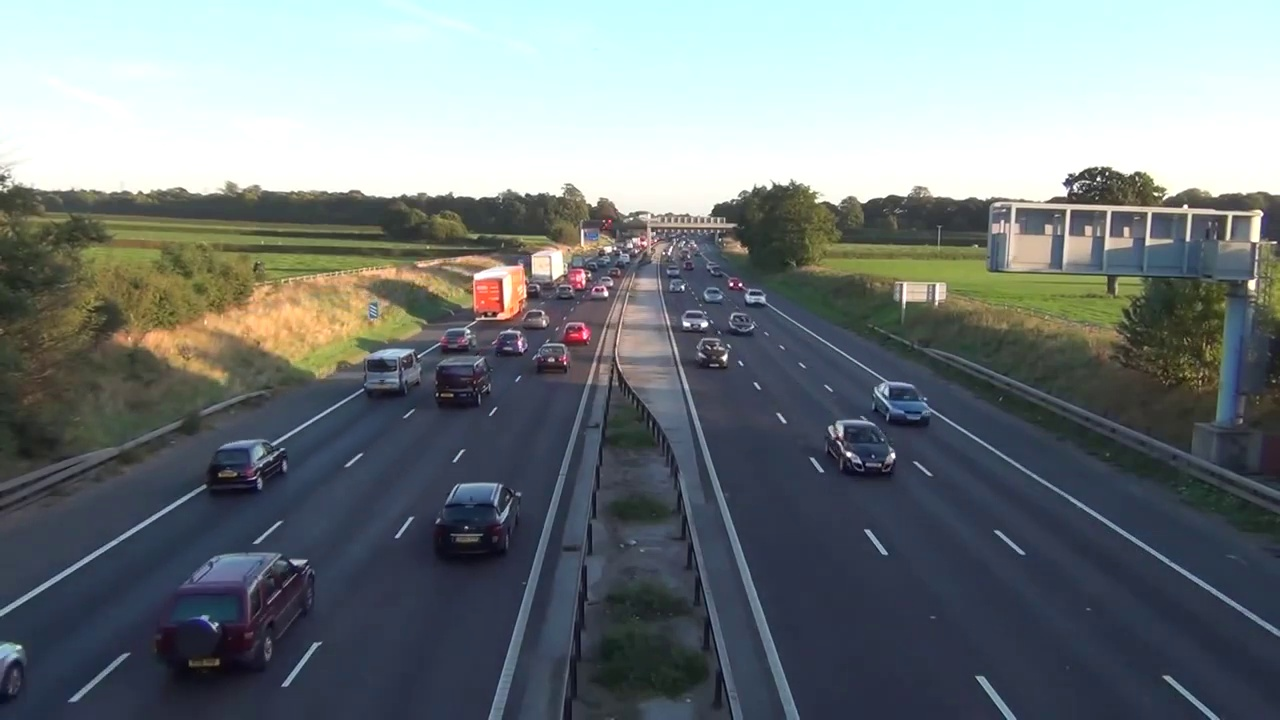bus: (149, 549, 323, 684), (430, 484, 533, 563), (208, 439, 293, 493), (822, 417, 897, 477), (869, 381, 932, 426), (2, 642, 29, 697), (695, 337, 731, 372), (537, 342, 571, 374), (439, 327, 477, 353), (495, 329, 527, 356), (680, 309, 710, 335), (564, 319, 592, 346), (728, 312, 756, 337), (521, 309, 551, 330), (743, 288, 767, 308), (703, 287, 724, 306), (557, 283, 573, 300), (591, 285, 608, 301), (668, 278, 686, 293), (527, 281, 542, 298), (727, 277, 745, 290), (598, 275, 614, 288), (666, 266, 680, 278), (705, 261, 717, 272), (683, 260, 695, 271), (563, 263, 570, 281), (711, 266, 722, 277), (584, 270, 593, 283), (585, 260, 597, 269), (607, 268, 620, 275)
car: (472, 265, 528, 322), (531, 251, 564, 288), (573, 252, 586, 268)
lorry: (430, 355, 497, 408), (359, 348, 421, 402), (568, 269, 589, 291)
